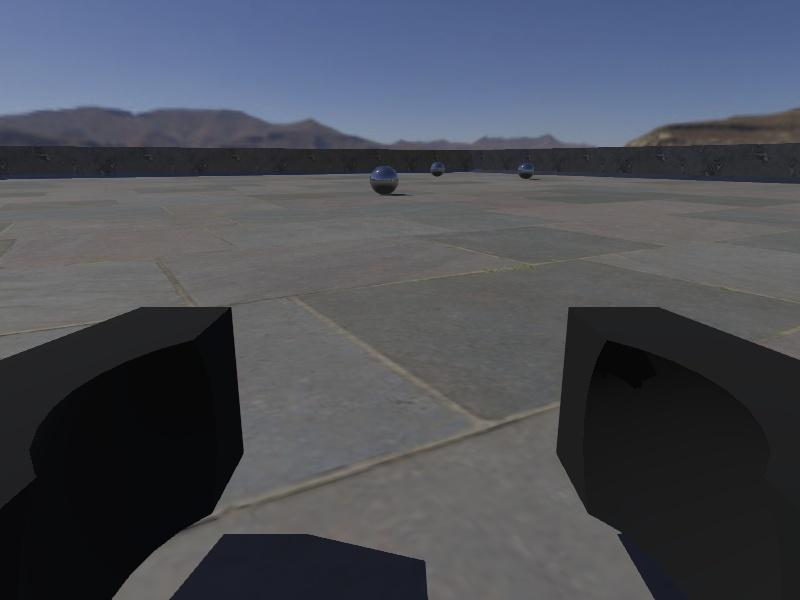steel ball: (368, 164, 398, 195), (517, 162, 535, 180), (430, 160, 446, 177)
